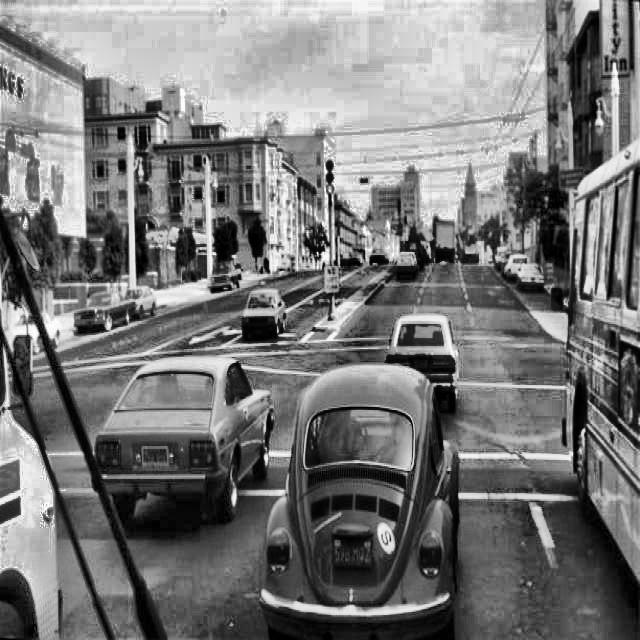carro: (72, 288, 124, 332), (245, 284, 284, 342), (207, 260, 241, 293), (367, 249, 391, 266)
